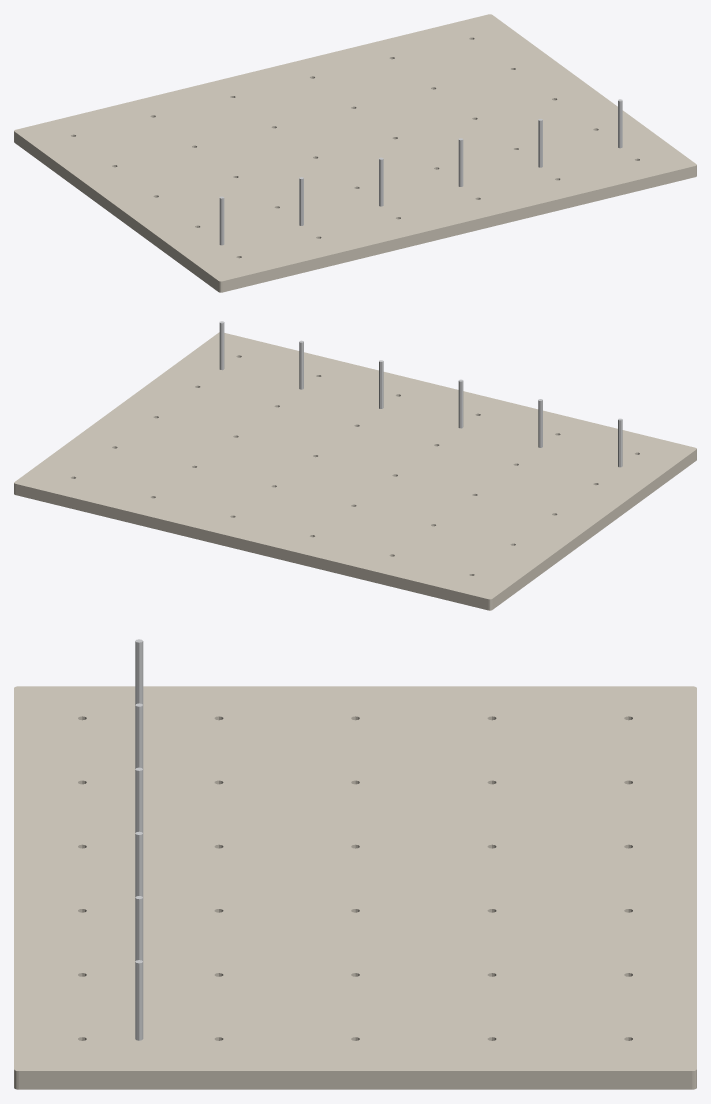
Rendered from pegboard.glb.
3 renders of one model, top to bottom at view 1: azimuth 30°, elevation 25°; view 2: azimuth 150°, elevation 25°; view 3: azimuth 270°, elevation 25°, orthographic. The views are drawn at different scales.
Visible parts, largest first — view 1: board; view 2: board; view 3: board, hook_5.
Boxes of the visible parts, x1,y1,x2,y2 form: board: (14, 14, 696, 292); board: (14, 332, 696, 610); board: (14, 686, 696, 1089); hook_5: (135, 960, 143, 1040).
Size of the model in its own units: 0.8 by 0.093 by 0.6.
